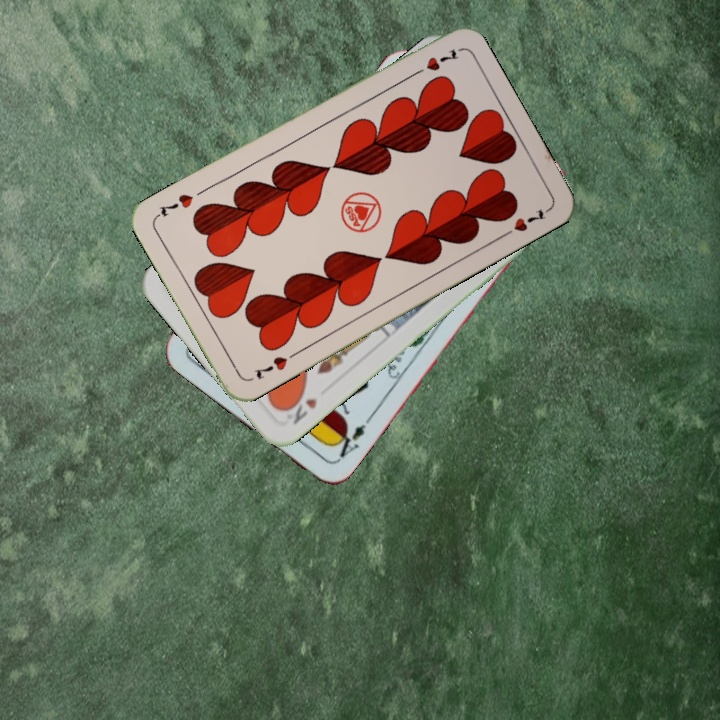EA: (328, 413, 374, 464)
H7: (407, 45, 461, 80), (250, 347, 300, 382)
HK: (279, 389, 320, 427)
